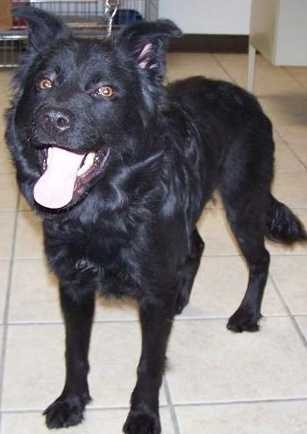Dog: (5, 5, 306, 427)
